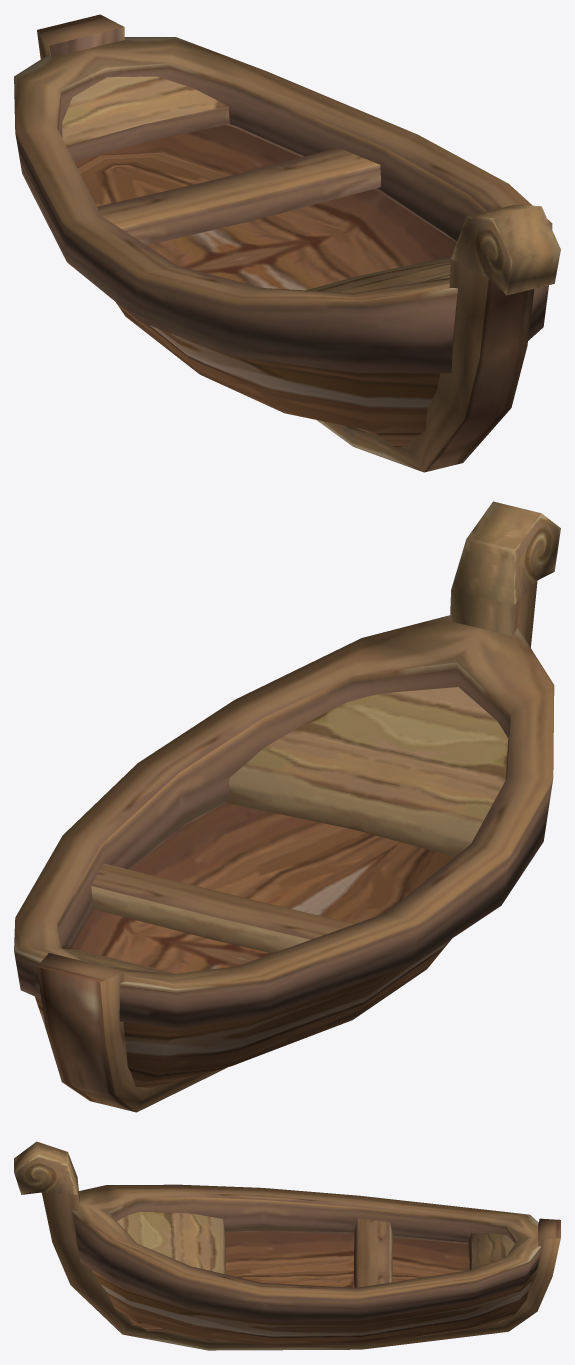
File: Map_06_boat02.FBX
3 renders of one model, top to bottom at view 1: azimuth 30°, elevation 25°; view 2: azimuth 150°, elevation 25°; view 3: azimuth 270°, elevation 25°, orthographic. The views are drawn at different scales.
Parts seen in each view (by area): view 1: Map_06_boat02; view 2: Map_06_boat02; view 3: Map_06_boat02.
Boxes of the visible parts, bbox=[...] form: Map_06_boat02: bbox=[14, 14, 560, 472]; Map_06_boat02: bbox=[14, 501, 560, 1112]; Map_06_boat02: bbox=[14, 1141, 560, 1350].
Bounding box in the file's own units: 173 × 378 × 151.
